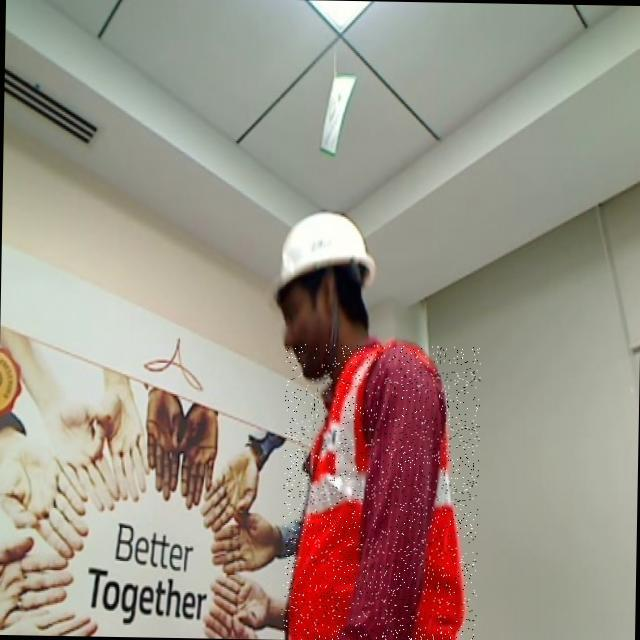helmet: (269, 205, 386, 308)
vest: (280, 343, 480, 640)
